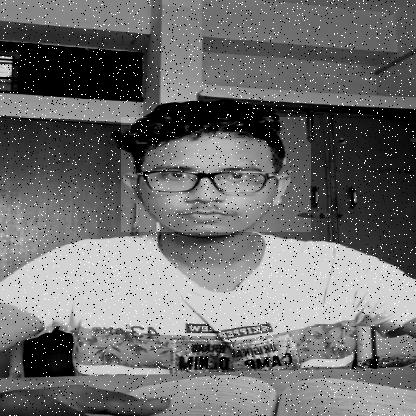Normal: (121, 117, 311, 232)
